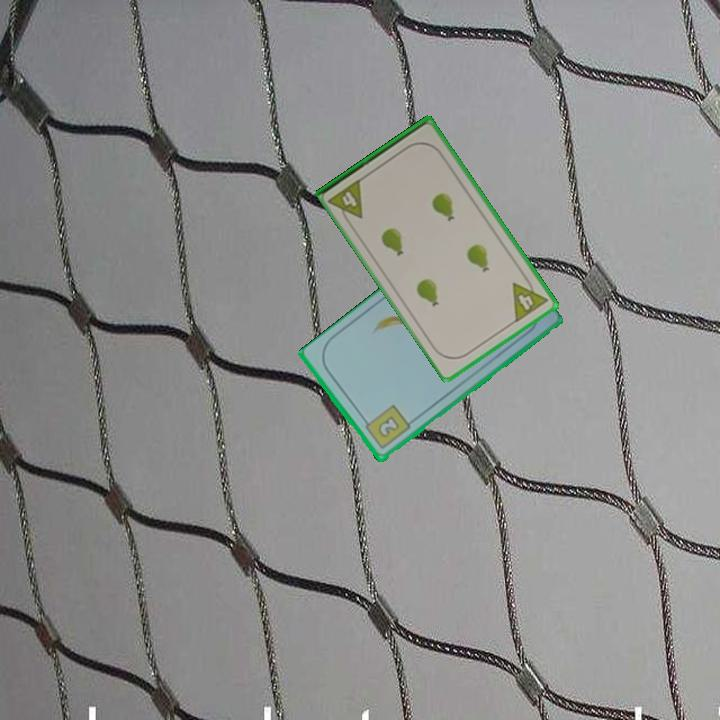2b: (360, 402, 413, 452)
4p: (509, 272, 551, 325), (325, 175, 366, 228)
